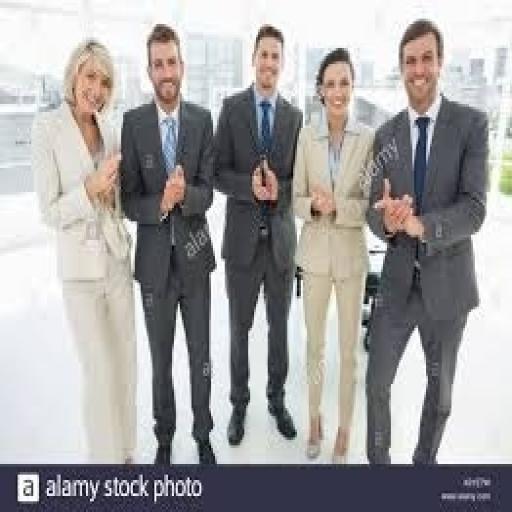clapping: (364, 16, 490, 464), (29, 37, 139, 464), (117, 21, 219, 464), (211, 21, 303, 448), (291, 46, 375, 462)
